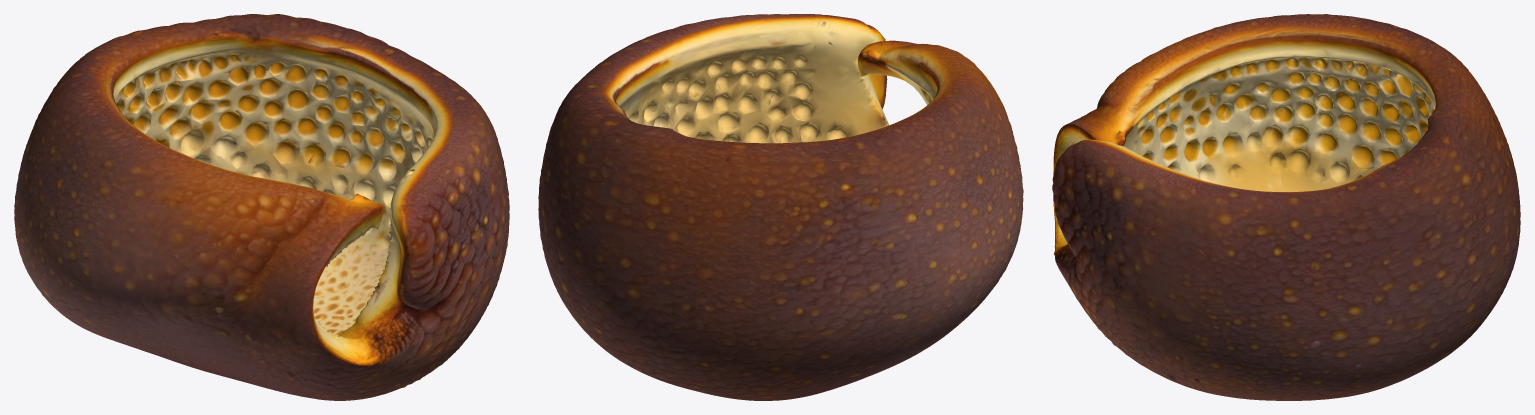
File: chenpi.glb
The picture shows the model from 3 angles, left to right: view 1: azimuth 30°, elevation 25°; view 2: azimuth 150°, elevation 25°; view 3: azimuth 270°, elevation 25°; orthographic projection. The views are drawn at different scales.
Visible parts, largest first — view 1: node_0; view 2: node_0; view 3: node_0.
Part boxes in pixels (x1,y1,x2,y2): node_0: (14,14,509,400); node_0: (538,14,1023,400); node_0: (1052,14,1520,400).
Size of the model in its own units: 1.12 by 0.7367 by 1.12.
Materials: 1 (1 with a texture image).
